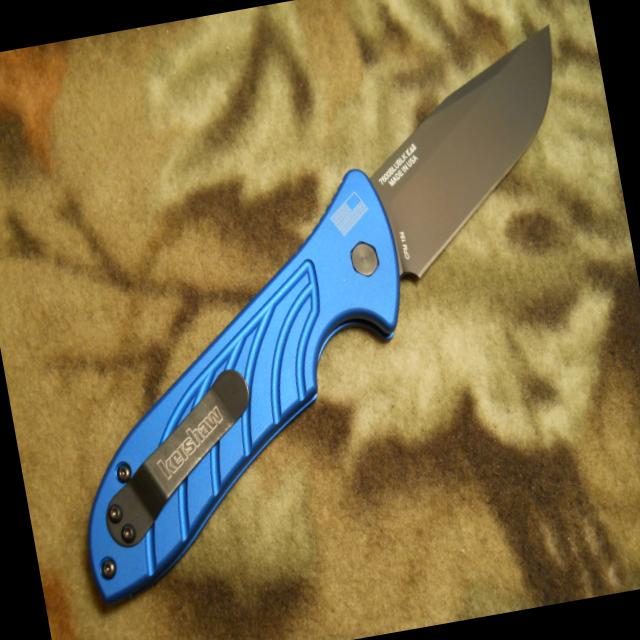knife: (2, 18, 639, 623)
